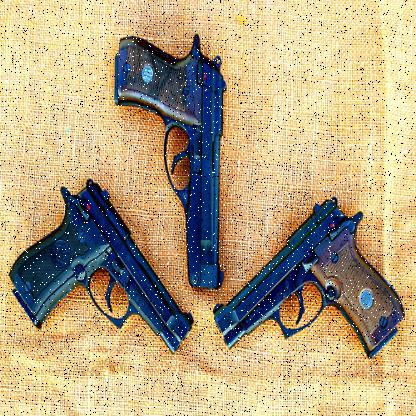pistol: (211, 194, 406, 374), (10, 176, 192, 357), (111, 36, 226, 292)
